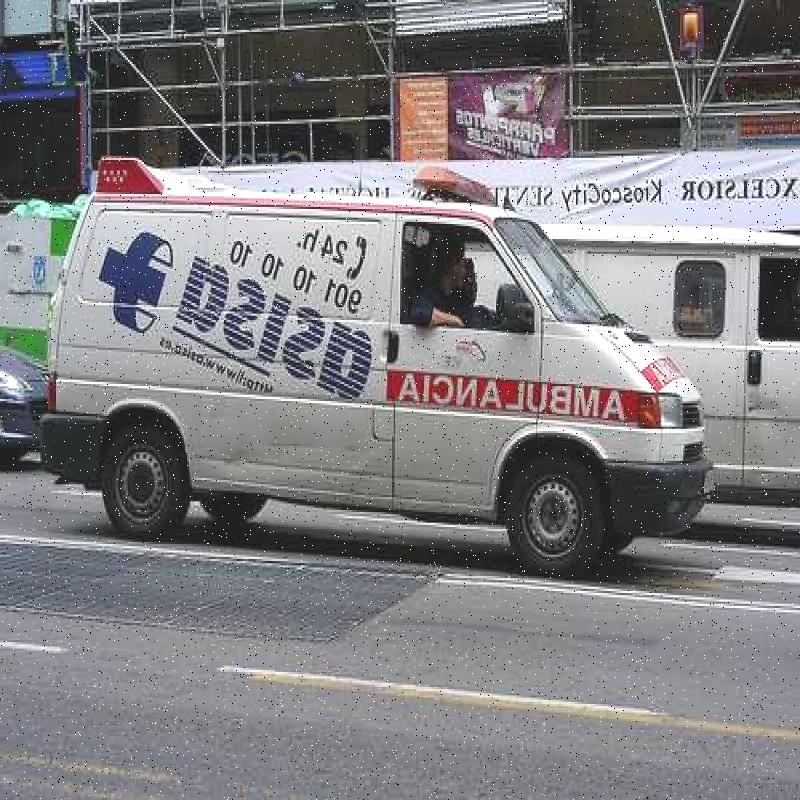AmbulanceSiren: (403, 156, 498, 218)
